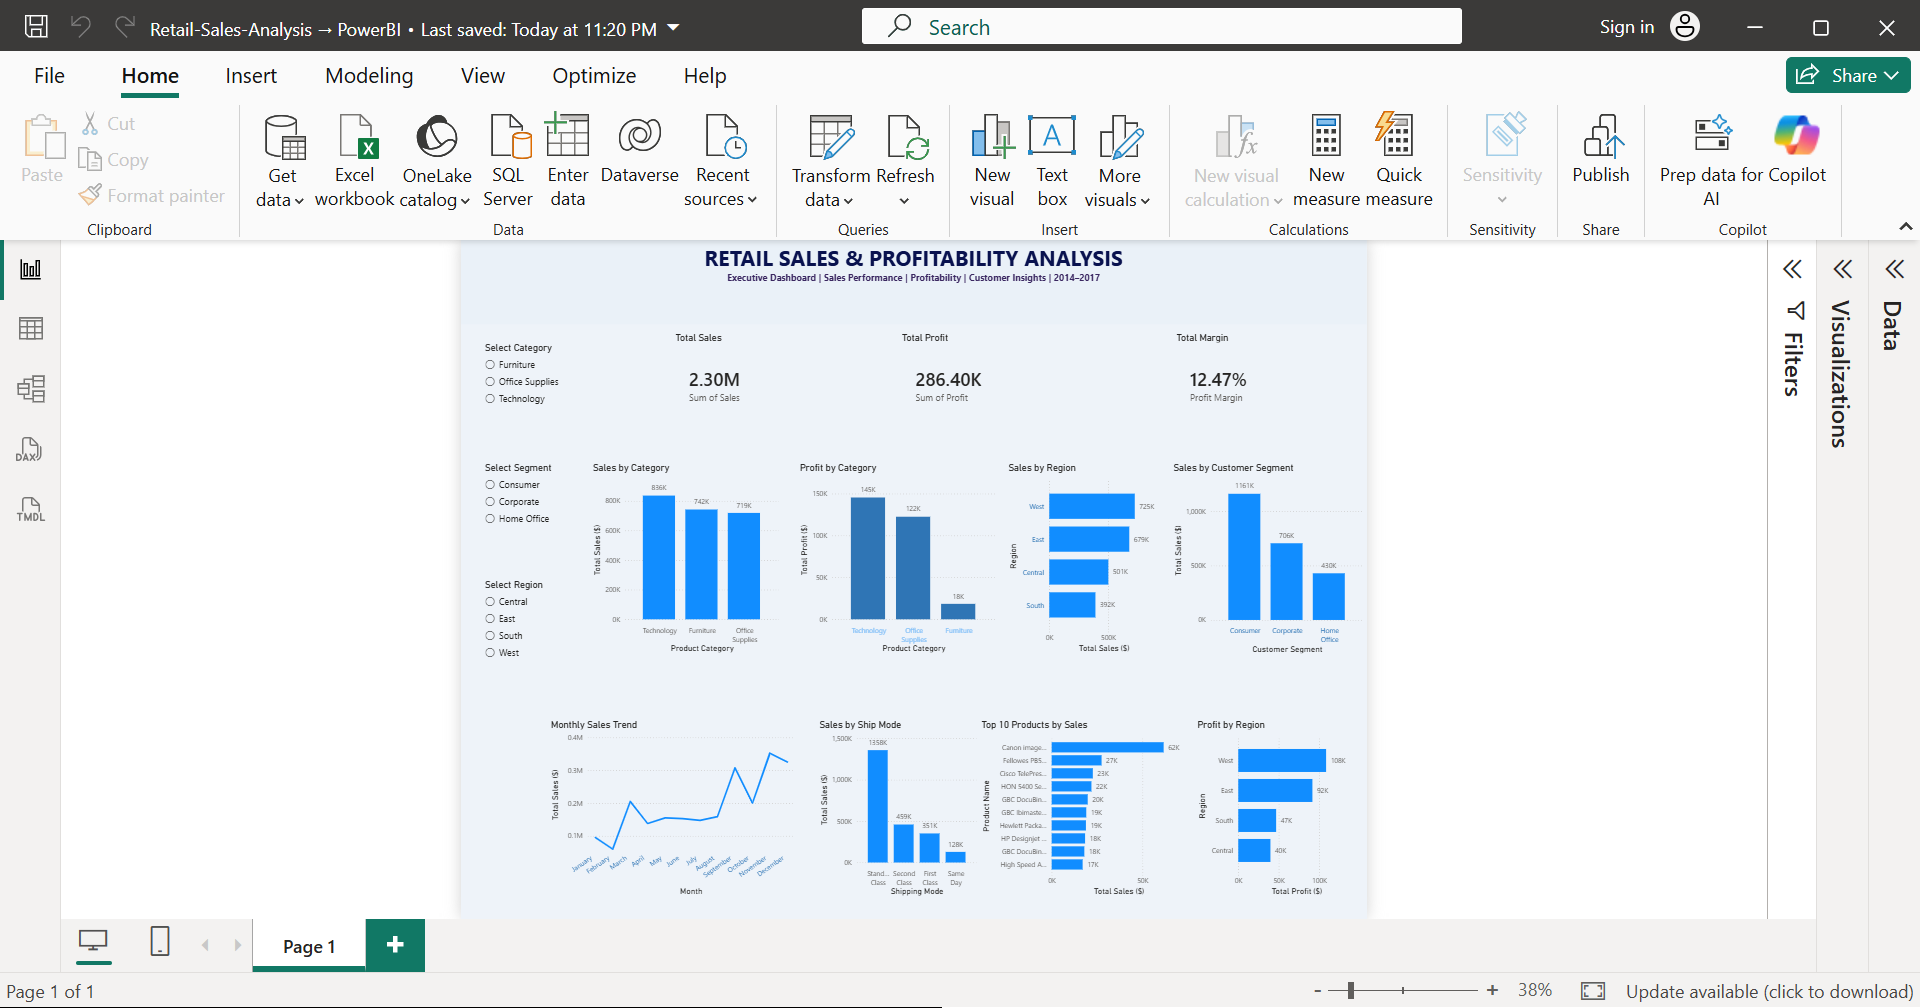

The page's visual inventory and layout, read from the dashboard file:
{"tool":"powerbi","page":{"name":"Page 1","canvas":[1600,1200],"ordinal":0},"visuals":[{"type":"clusteredColumnChart","title":"Sales by Category","fields":{"Category":["Retail_Sales_Cleaned.Category"],"Y":["Sum(Retail_Sales_Cleaned.Sales)"]},"box":[226.7,391.7,338.3,341.7],"z":0},{"type":"clusteredColumnChart","title":"Profit by Category","fields":{"Category":["Retail_Sales_Cleaned.Category"],"Y":["Sum(Retail_Sales_Cleaned.Profit)"]},"box":[593.3,391.7,355,341.7],"z":1000},{"type":"clusteredBarChart","title":"Sales by Region","fields":{"Category":["Retail_Sales_Cleaned.Region"],"Y":["Sum(Retail_Sales_Cleaned.Sales)"]},"box":[961.7,391.7,290,341.7],"z":2000},{"type":"lineChart","title":"\tMonthly Sales Trend","fields":{"Category":["Retail_Sales_Cleaned.Order Date.Variation.Date Hierarchy.Month"],"Y":["Sum(Retail_Sales_Cleaned.Sales)"]},"box":[154.3,845.7,440,317.1],"z":3000},{"type":"clusteredColumnChart","title":"Sales by Customer Segment","fields":{"Category":["Retail_Sales_Cleaned.Segment"],"Y":["Sum(Retail_Sales_Cleaned.Sales)"]},"box":[1254.3,391.4,345.7,342.9],"z":4000},{"type":"cardVisual","title":"Total Sales","fields":{"Data":["Sum(Retail_Sales_Cleaned.Sales)"]},"box":[373.8,161.7,331.4,169.7],"z":5000},{"type":"clusteredBarChart","title":"Profit by Region","fields":{"Category":["Retail_Sales_Cleaned.Region"],"Y":["Sum(Retail_Sales_Cleaned.Profit)"]},"box":[1297,845.5,303,318.2],"z":6000},{"type":"clusteredColumnChart","title":"Sales by Ship Mode","fields":{"Category":["Retail_Sales_Cleaned.Ship Mode"],"Y":["Sum(Retail_Sales_Cleaned.Sales)"]},"box":[627.3,845.5,287.9,318.2],"z":7000},{"type":"clusteredBarChart","title":"Top 10 Products by Sales","fields":{"Category":["Retail_Sales_Cleaned.Product Name"],"Y":["Sum(Retail_Sales_Cleaned.Sales)"]},"box":[915.2,845.5,381.8,318.2],"z":8000},{"type":"listSlicer","title":"Select Region","fields":{"Values":["Retail_Sales_Cleaned.Region"]},"box":[37.5,600,190,162.5],"z":9000},{"type":"listSlicer","title":"Select Category","fields":{"Values":["Retail_Sales_Cleaned.Category"]},"box":[37.5,180,190,132.5],"z":10000},{"type":"listSlicer","title":"Select Segment","fields":{"Values":["Retail_Sales_Cleaned.Segment"]},"box":[37.5,392.5,190,152.5],"z":11000},{"type":"textbox","box":[0,0,1600,148.6],"z":12000},{"type":"cardVisual","title":"Total Margin","fields":{"Data":["Retail_Sales_Cleaned.Profit Margin"]},"box":[1259.2,161.7,331.4,169.7],"z":13000},{"type":"cardVisual","title":"Total Profit","fields":{"Data":["Sum(Retail_Sales_Cleaned.Profit)"]},"box":[774.1,161.7,331.4,169.7],"z":14000}]}

Visuals, with their boxes on the page's 1600x1200 design canvas (x1, y1, x2, y2). These are canvas units, not pixel positions in the 1920x1008 screenshot, which may show the page scaled, cropped or inside an application window:
"Sales by Category" clusteredColumnChart: region(227, 392, 565, 733)
"Profit by Category" clusteredColumnChart: region(593, 392, 948, 733)
"Sales by Region" clusteredBarChart: region(962, 392, 1252, 733)
"	Monthly Sales Trend" lineChart: region(154, 846, 594, 1163)
"Sales by Customer Segment" clusteredColumnChart: region(1254, 391, 1600, 734)
"Total Sales" cardVisual: region(374, 162, 705, 331)
"Profit by Region" clusteredBarChart: region(1297, 846, 1600, 1164)
"Sales by Ship Mode" clusteredColumnChart: region(627, 846, 915, 1164)
"Top 10 Products by Sales" clusteredBarChart: region(915, 846, 1297, 1164)
"Select Region" listSlicer: region(38, 600, 228, 762)
"Select Category" listSlicer: region(38, 180, 228, 312)
"Select Segment" listSlicer: region(38, 392, 228, 545)
textbox: region(0, 0, 1600, 149)
"Total Margin" cardVisual: region(1259, 162, 1591, 331)
"Total Profit" cardVisual: region(774, 162, 1106, 331)
